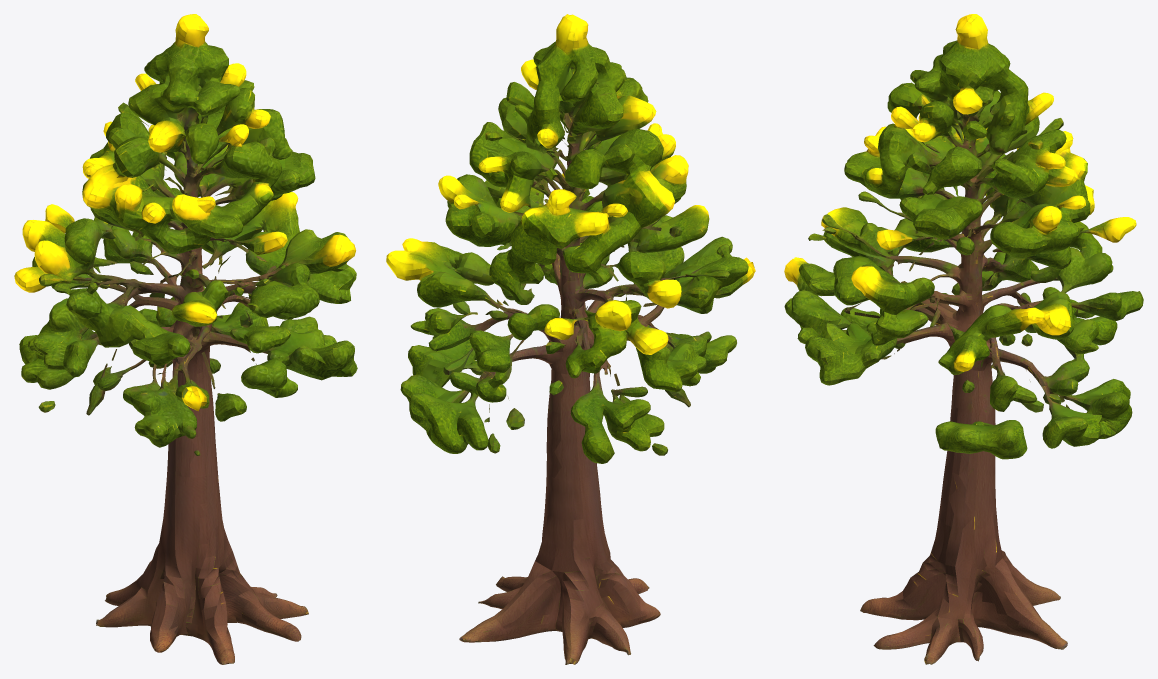
Rendered from raw_meshy_model.glb.
3 renders of one model, left to right at view 1: azimuth 30°, elevation 25°; view 2: azimuth 150°, elevation 25°; view 3: azimuth 270°, elevation 25°, orthographic.
Size of the model in its own units: 0.9785 by 1.89 by 1.02.
1 material, 1 textured.
